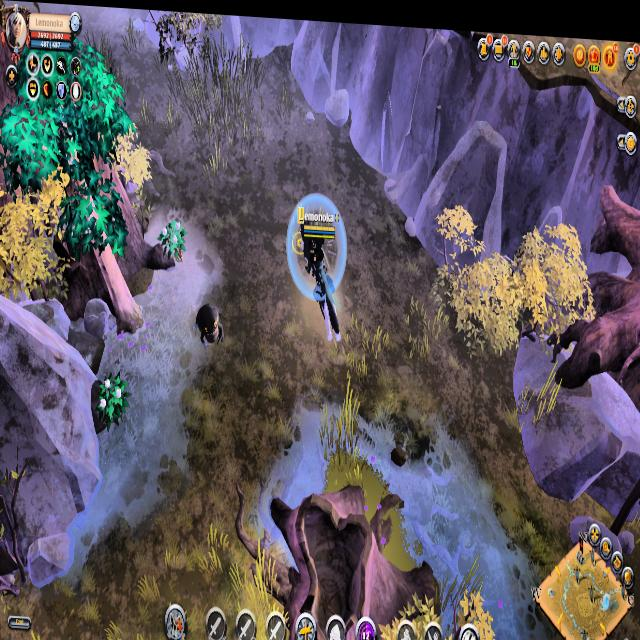fiber tier 3: (98, 367, 132, 437), (158, 212, 190, 270)
